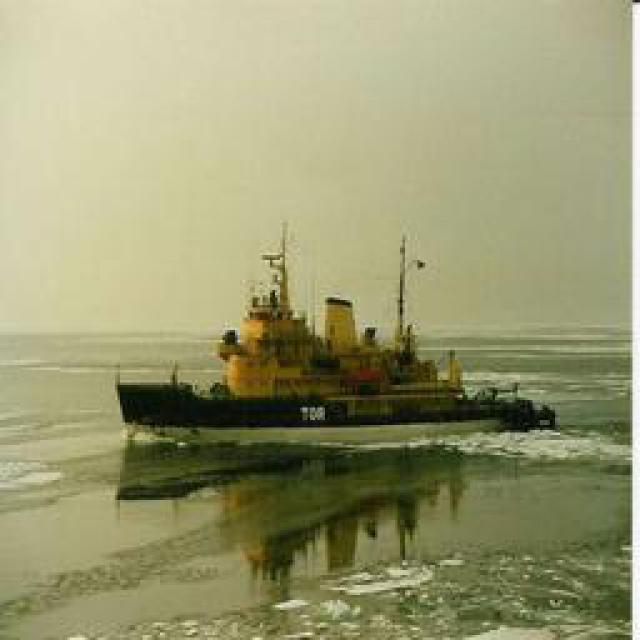Ship: (120, 340, 560, 443)
